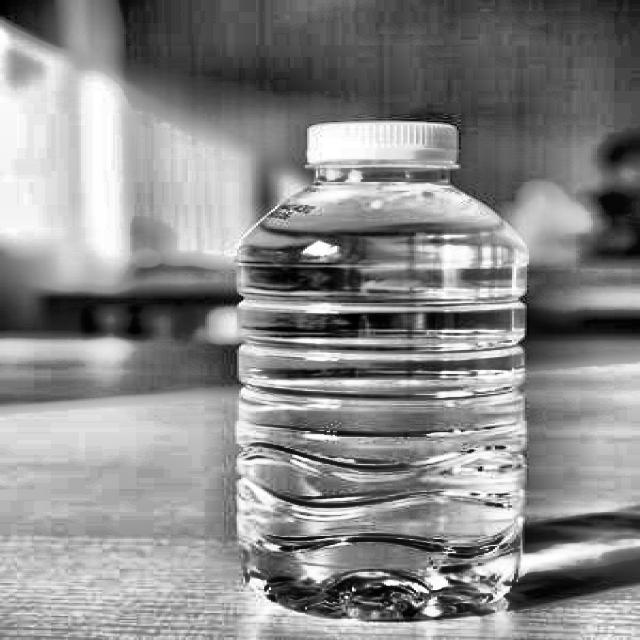waterbottle: (216, 111, 546, 628)
